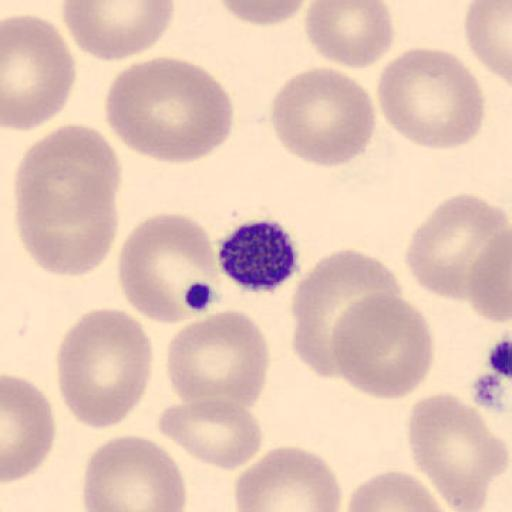Platelet: (216, 217, 302, 295)
RBC: (12, 122, 120, 277), (290, 248, 404, 382), (103, 55, 235, 165), (406, 389, 511, 512), (54, 306, 154, 432), (116, 212, 221, 324), (376, 46, 486, 152), (404, 192, 510, 302), (164, 308, 271, 416), (329, 294, 436, 400), (270, 66, 376, 168), (1, 12, 77, 132), (81, 432, 188, 512), (157, 396, 265, 472), (233, 443, 343, 512), (60, 0, 177, 63), (303, 1, 395, 70), (1, 373, 57, 485), (345, 469, 450, 512), (466, 228, 512, 324), (463, 0, 512, 86), (215, 0, 311, 27)
